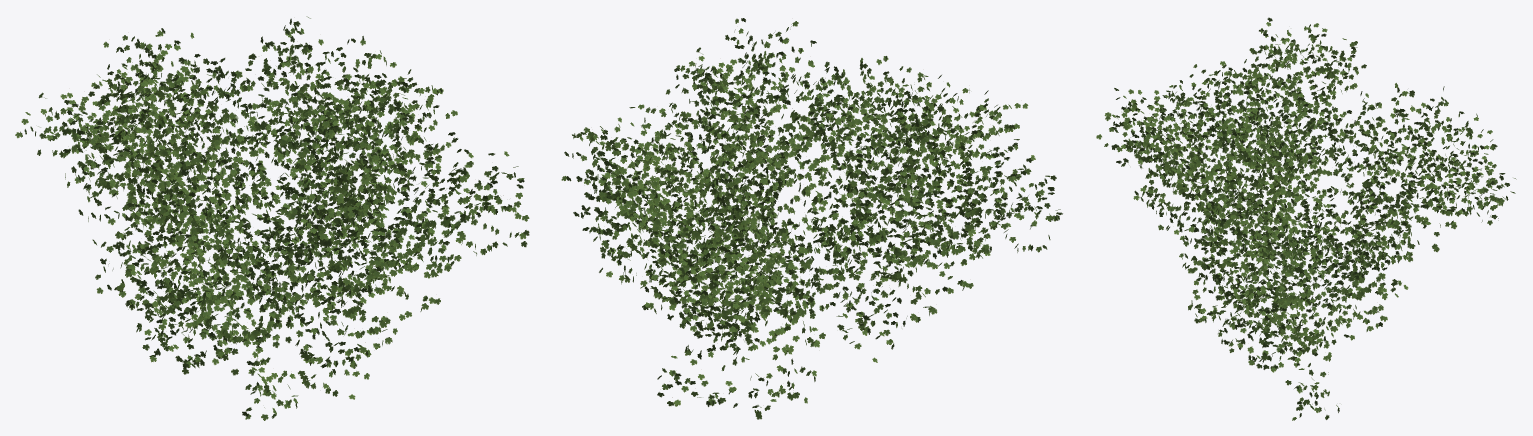
The model's file is MESH_EU01_AcerCampestre_M_LOD1.fbx.
3 views of the same model, side by side, from view 1: azimuth 30°, elevation 25°; view 2: azimuth 150°, elevation 25°; view 3: azimuth 270°, elevation 25° (orthographic). The views are drawn at different scales.
Visible parts, largest first — view 1: MI_LOD1_001; view 2: MI_LOD1_001; view 3: MI_LOD1_001.
Boxes of the visible parts, <box> form: MI_LOD1_001: <box>15,16,529,420</box>; MI_LOD1_001: <box>561,18,1062,419</box>; MI_LOD1_001: <box>1096,17,1516,420</box>.
Size of what is drawn, in the model's own units: 491 by 407 by 476.
